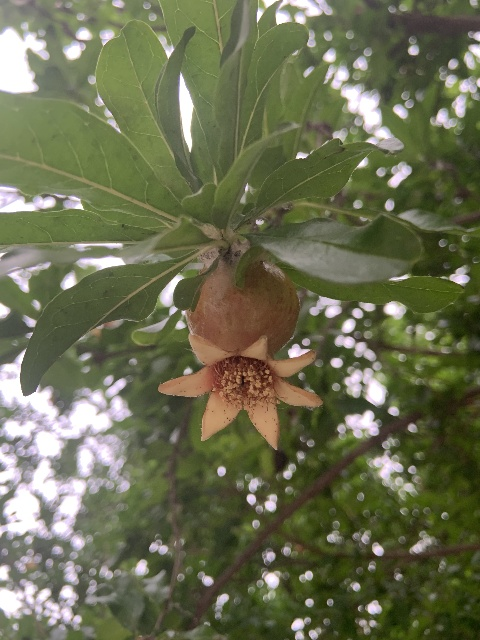early-fruit: (157, 253, 322, 450)
